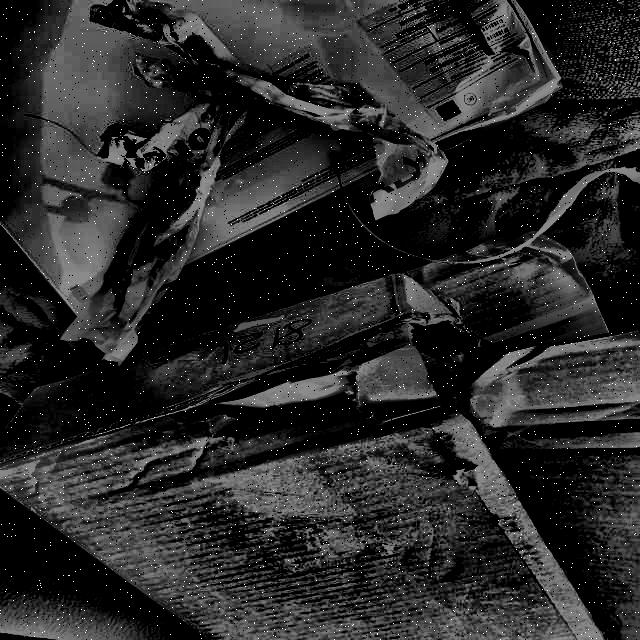box: (0, 210, 639, 640)
hole: (157, 311, 474, 435)
